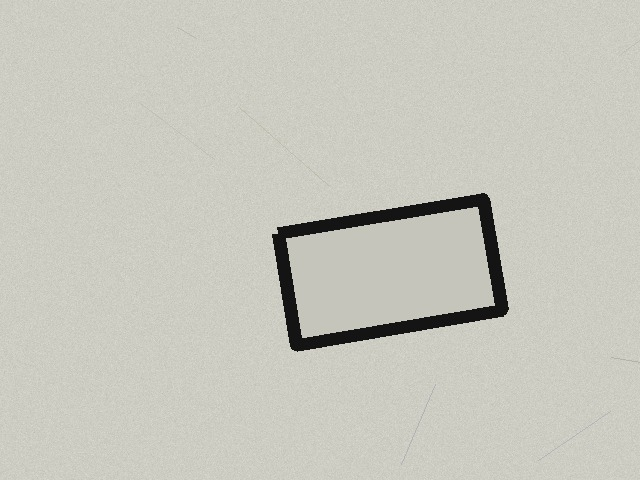parking_area: (278, 199, 502, 345)
